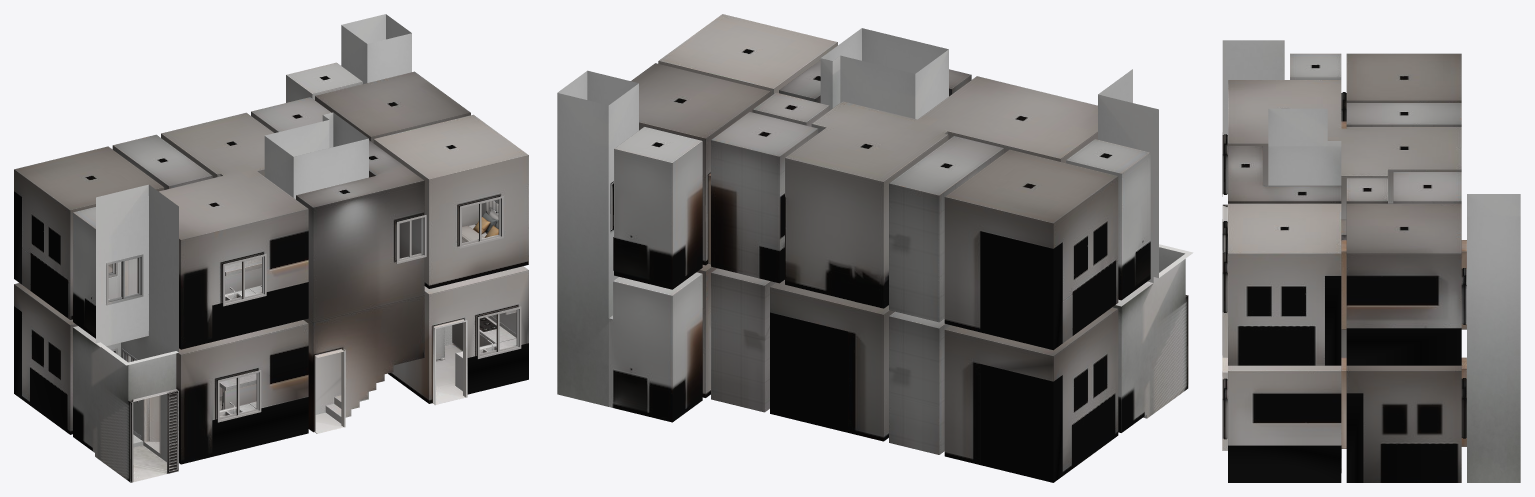
The model's file is apt.glb.
3 views of the same model, side by side, from view 1: azimuth 30°, elevation 25°; view 2: azimuth 150°, elevation 25°; view 3: azimuth 270°, elevation 25° (orthographic). The views are drawn at different scales.
Bounding box in the file's own units: 16.02 × 10 × 9.99.
11 materials, 7 textured.
